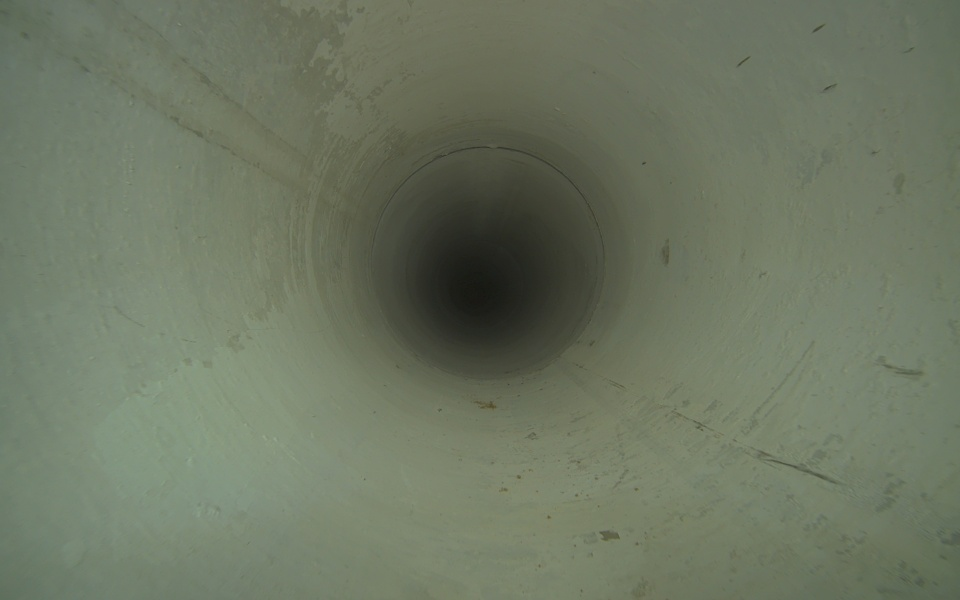circle1: (365, 142, 607, 388)
circle2: (453, 270, 497, 312)
